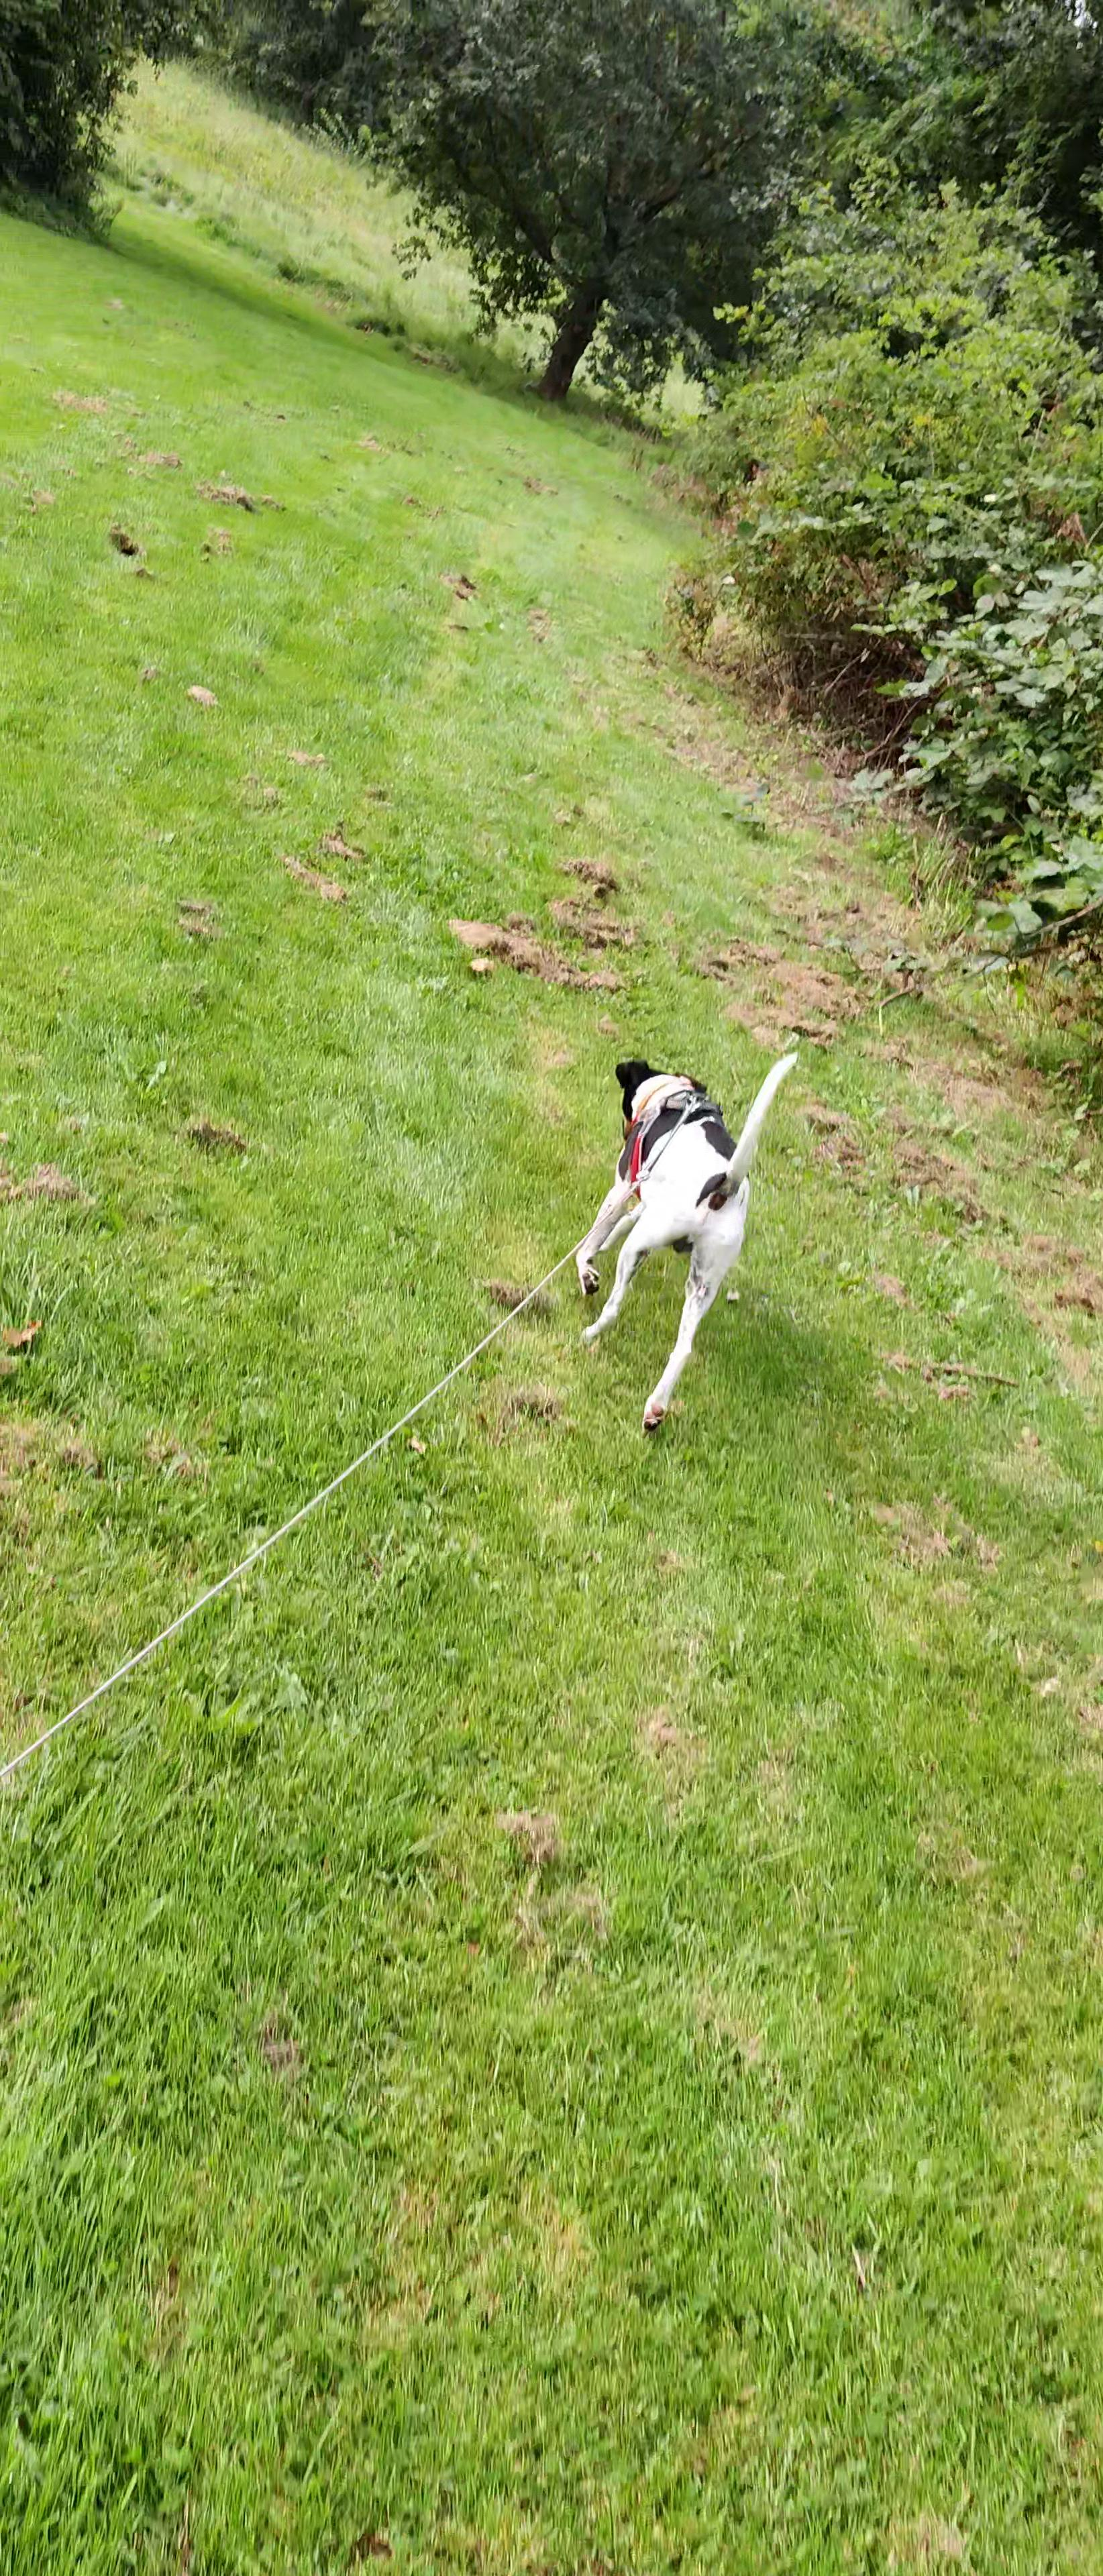Dog: (564, 1040, 805, 1441)
